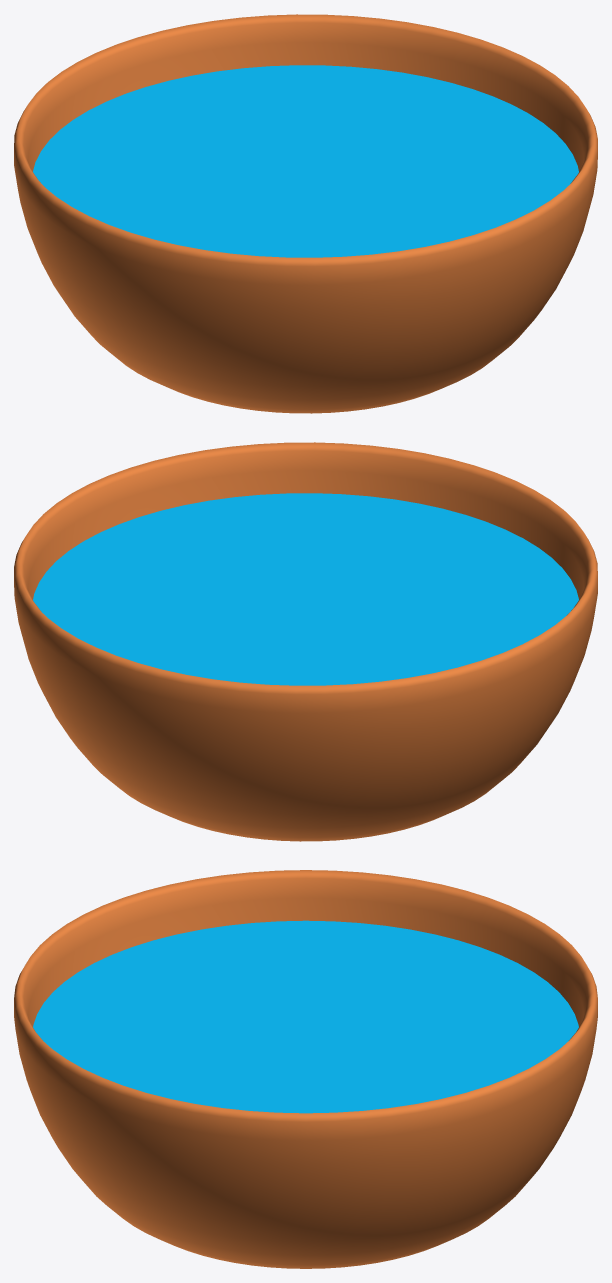
The model's file is Water.fbx.
3 renders of one model, top to bottom at view 1: azimuth 30°, elevation 25°; view 2: azimuth 150°, elevation 25°; view 3: azimuth 270°, elevation 25°, orthographic.
Parts seen in each view (by area): view 1: Bowl, Water; view 2: Bowl, Water; view 3: Bowl, Water.
Part boxes in pixels (bbox=[...]): Bowl: bbox=[14, 14, 597, 413]; Water: bbox=[33, 65, 578, 257]; Bowl: bbox=[14, 442, 597, 841]; Water: bbox=[33, 493, 578, 685]; Bowl: bbox=[14, 870, 597, 1268]; Water: bbox=[33, 920, 578, 1113].
Bounding box in the file's own units: 181 × 71.75 × 181.
